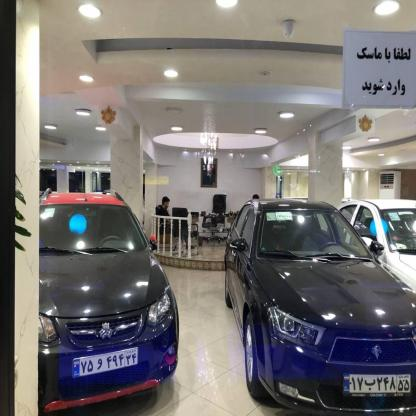Car: (221, 180, 416, 416), (40, 176, 181, 415), (339, 173, 416, 293)
